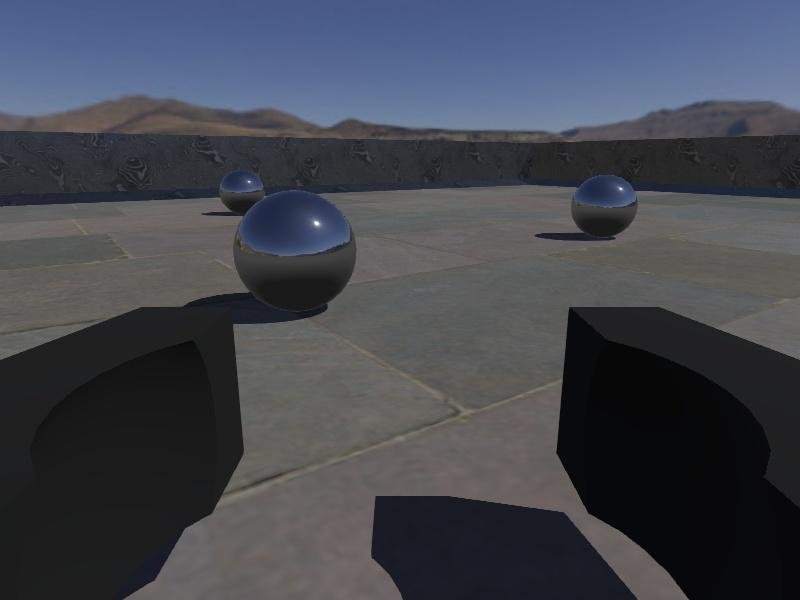steel ball: (232, 188, 358, 313), (570, 174, 639, 238)
